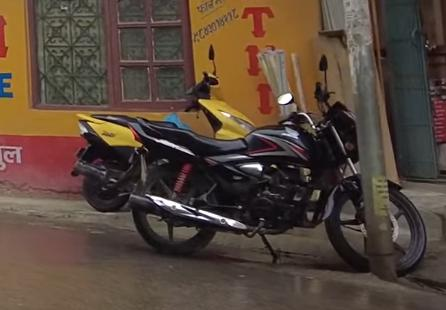bike: (124, 56, 431, 279)
